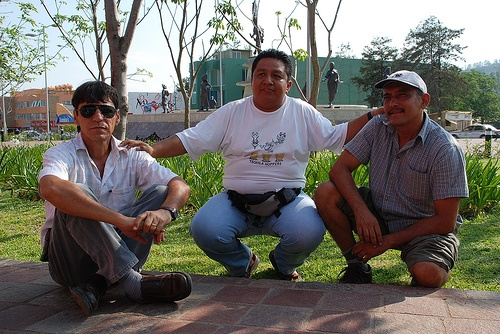head: (380, 67, 432, 130), (73, 81, 122, 145), (246, 46, 295, 110)
person: (130, 47, 373, 285), (37, 79, 194, 313), (310, 71, 469, 287), (322, 61, 339, 106), (198, 73, 210, 109), (160, 84, 169, 112)
